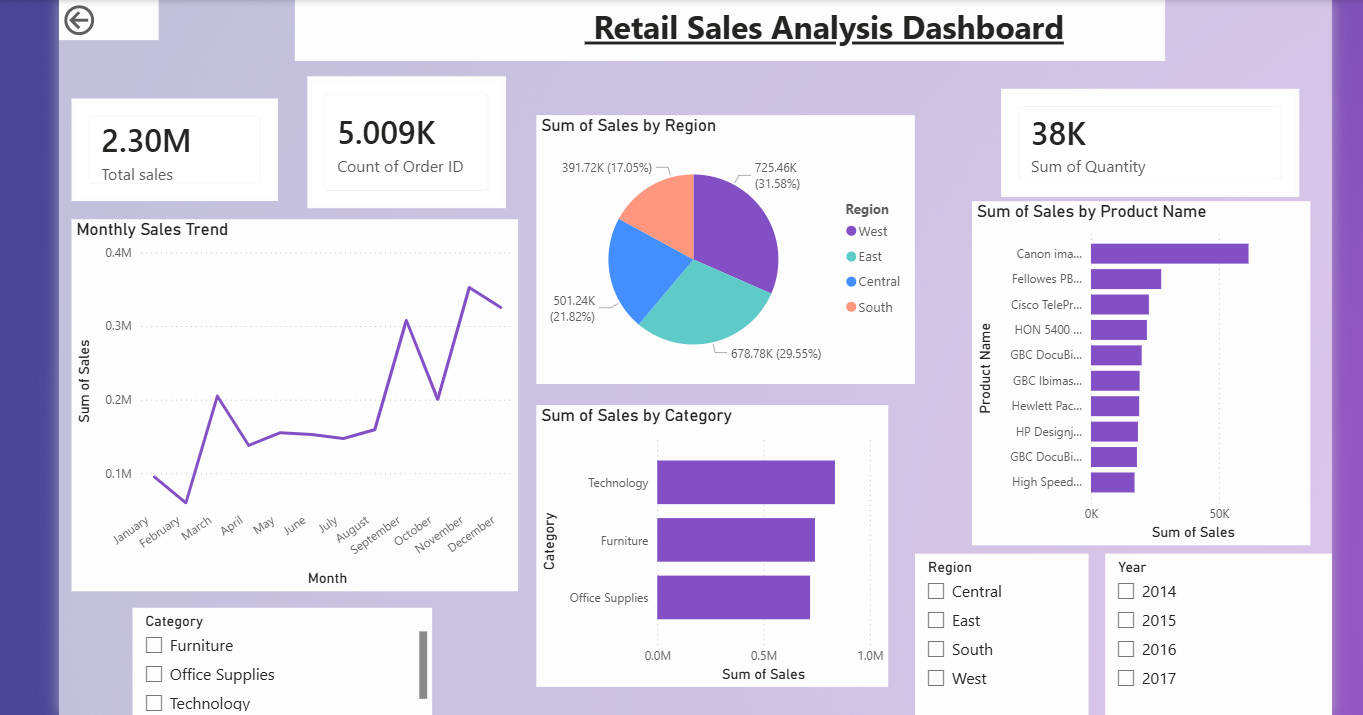

The dashboard page shown, as its layout file describes it:
{"tool":"powerbi","page":{"name":"Page 1","canvas":[1280,720],"ordinal":0},"visuals":[{"type":"lineChart","title":"Monthly Sales Trend","fields":{"Y":["Sum(Sample - Superstore.Sales)","Sum(Sample - Superstore.Sales)"],"Category":["Sample - Superstore.Order Date.Variation.Date Hierarchy.Month"]},"box":[12.6,220.4,449.2,373.8],"z":0},{"type":"cardVisual","fields":{"Data":["Sum(Sample - Superstore.Sales)"]},"box":[12.6,99,207.8,103.2],"z":1000},{"type":"cardVisual","fields":{"Data":["Sum(Sample - Superstore.Quantity)"]},"box":[947.2,89.3,299.9,108.8],"z":2000},{"type":"cardVisual","fields":{"Data":["Count(Sample - Superstore.Order ID)"]},"box":[249.7,76.7,199.5,132.5],"z":3000},{"type":"clusteredBarChart","fields":{"Category":["Sample - Superstore.Category"],"Y":["Sum(Sample - Superstore.Sales)"]},"box":[480.3,406.6,354.2,283.4],"z":4000},{"type":"pieChart","fields":{"Category":["Sample - Superstore.Region"],"Y":["Sum(Sample - Superstore.Sales)"]},"box":[479.9,115.8,380.8,270.6],"z":5000},{"type":"clusteredBarChart","fields":{"Category":["Sample - Superstore.Product Name"],"Y":["Sum(Sample - Superstore.Sales)"]},"box":[917.9,202.3,340.4,345.9],"z":6000},{"type":"slicer","fields":{"Values":["Sample - Superstore.Year"]},"box":[1051.3,556.8,228.1,162.9],"z":7000},{"type":"actionButton","box":[0,0,100,40],"z":8000},{"type":"slicer","fields":{"Values":["Sample - Superstore.Region"]},"box":[860.1,556.8,174.3,162.9],"z":9000},{"type":"slicer","fields":{"Values":["Sample - Superstore.Category"]},"box":[73.9,611,301.3,108.8],"z":10000},{"type":"textbox","box":[237.1,0,874.6,61.4],"z":11000}]}

Visuals, with their boxes on the page's 1280x720 design canvas (x1, y1, x2, y2). These are canvas units, not pixel positions in the 1363x715 screenshot, which may show the page scaled, cropped or inside an application window:
"Monthly Sales Trend" lineChart: 13,220,462,594
cardVisual - Sum(Sample - Superstore.Sales): 13,99,220,202
cardVisual - Sum(Sample - Superstore.Quantity): 947,89,1247,198
cardVisual - Count(Sample - Superstore.Order ID): 250,77,449,209
clusteredBarChart - Sample - Superstore.Category x Sum(Sample - Superstore.Sales): 480,407,834,690
pieChart - Sample - Superstore.Region x Sum(Sample - Superstore.Sales): 480,116,861,386
clusteredBarChart - Sample - Superstore.Product Name x Sum(Sample - Superstore.Sales): 918,202,1258,548
slicer - Sample - Superstore.Year: 1051,557,1279,720
actionButton: 0,0,100,40
slicer - Sample - Superstore.Region: 860,557,1034,720
slicer - Sample - Superstore.Category: 74,611,375,720
textbox: 237,0,1112,61
